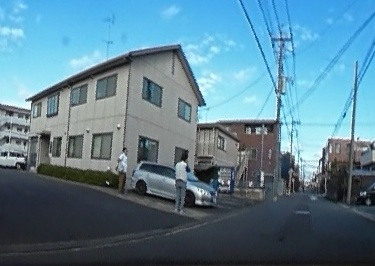person: (173, 150, 189, 213), (116, 144, 128, 191)
